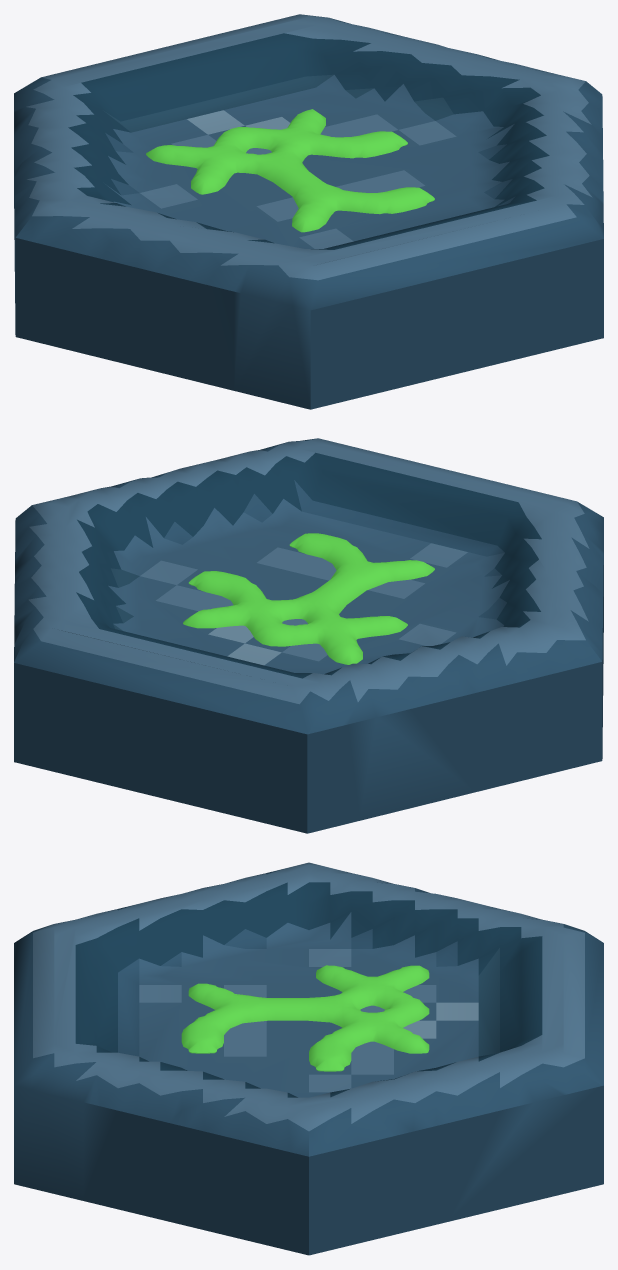
Rendered from fruit_glyph_tree.glb.
3 views of the same model, one above another, from view 1: azimuth 30°, elevation 25°; view 2: azimuth 150°, elevation 25°; view 3: azimuth 270°, elevation 25° (orthographic).
Parts seen in each view (by area): view 1: socket, glyph; view 2: socket, glyph; view 3: socket, glyph.
Boxes of the visible parts, box(x1,y1,x2,y2) form: socket: box(14, 14, 603, 409); glyph: box(146, 109, 434, 232); socket: box(14, 438, 603, 833); glyph: box(183, 533, 434, 664); socket: box(14, 862, 603, 1255); glyph: box(181, 965, 429, 1071).
Size of the model in its own units: 15.89 by 3.2 by 13.9.
